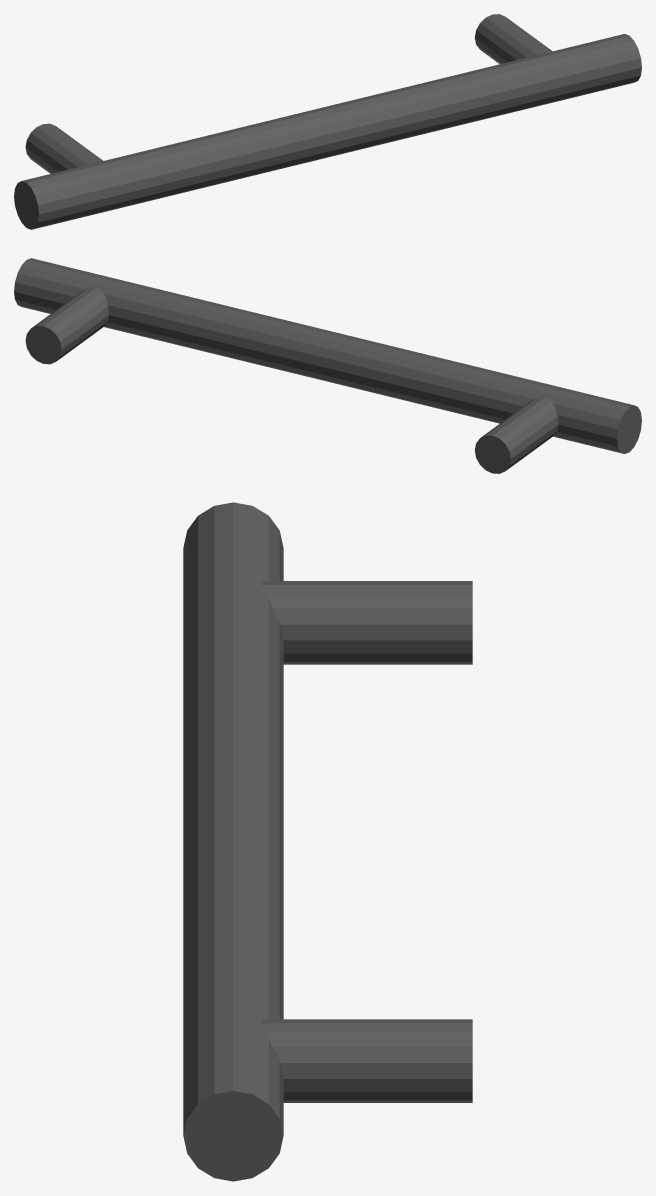
File: Prop_GenericHandle_01.fbx
The picture shows the model from 3 angles, top to bottom: view 1: azimuth 30°, elevation 25°; view 2: azimuth 150°, elevation 25°; view 3: azimuth 270°, elevation 25°; orthographic projection. The views are drawn at different scales.
Visible parts, largest first — view 1: Prop_GenericHandle_01; view 2: Prop_GenericHandle_01; view 3: Prop_GenericHandle_01.
Part boxes in pixels (<box>): Prop_GenericHandle_01: <box>14,14,641,229</box>; Prop_GenericHandle_01: <box>14,258,641,473</box>; Prop_GenericHandle_01: <box>183,502,472,1181</box>.
Size of the model in its own units: 33.46 by 2.41 by 6.95.
